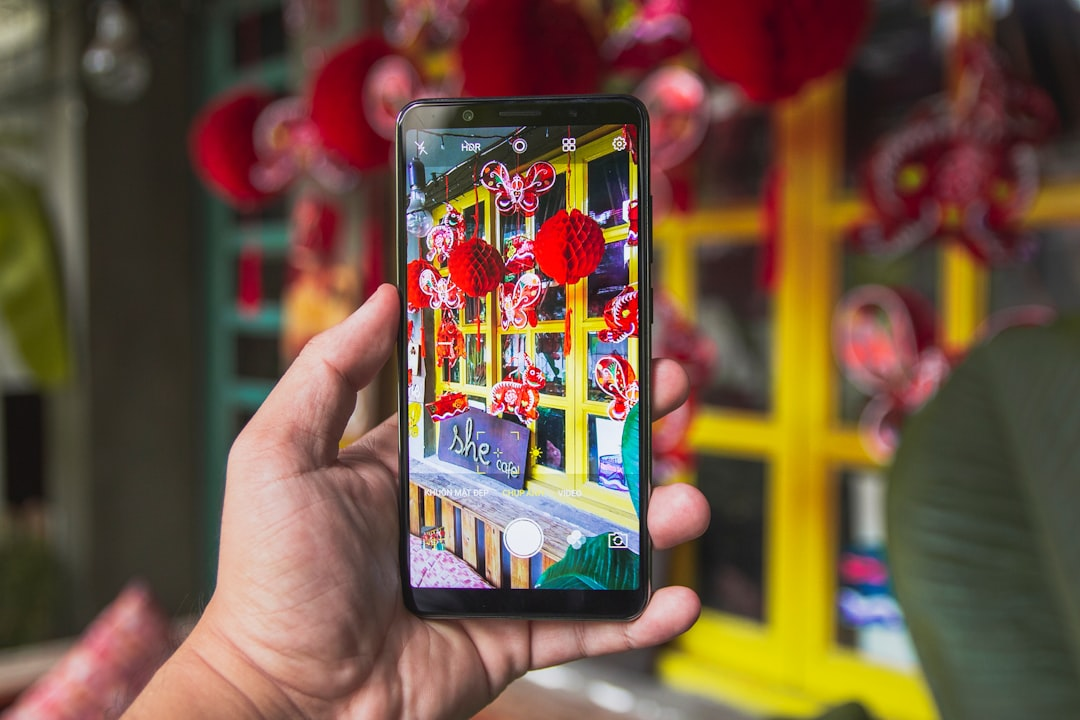phone: (393, 98, 653, 615)
